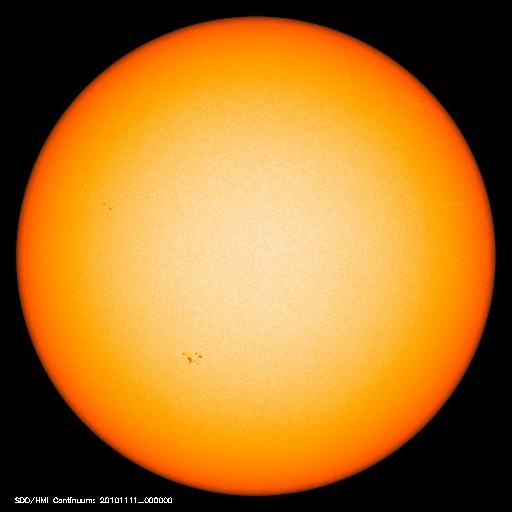sunspot: (81, 181, 115, 216), (173, 341, 212, 368)
